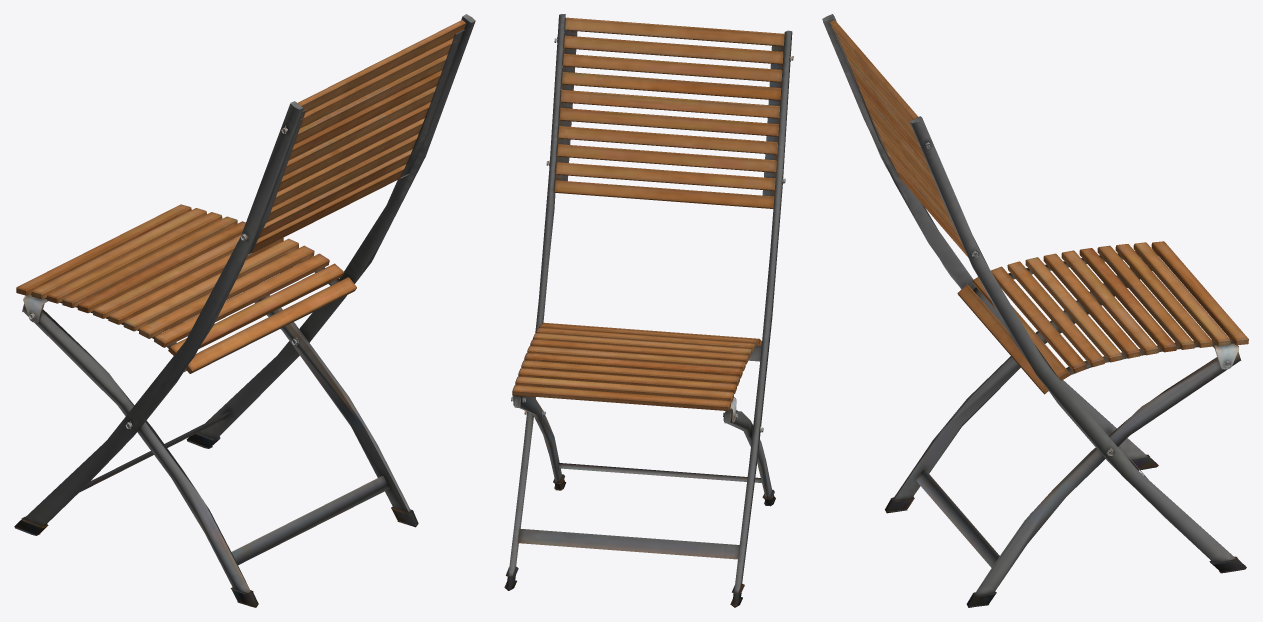
File: bistro_chair.glb
The picture shows the model from 3 angles, left to right: view 1: azimuth 30°, elevation 25°; view 2: azimuth 150°, elevation 25°; view 3: azimuth 270°, elevation 25°; orthographic projection. The views are drawn at different scales.
Visible parts, largest first — view 1: outdoor_table_chair_set_01_chair_01; view 2: outdoor_table_chair_set_01_chair_01; view 3: outdoor_table_chair_set_01_chair_01.
Boxes of the visible parts, x1=… form: outdoor_table_chair_set_01_chair_01: x1=14, y1=14, x2=475, y2=607; outdoor_table_chair_set_01_chair_01: x1=504, y1=14, x2=793, y2=607; outdoor_table_chair_set_01_chair_01: x1=822, y1=14, x2=1248, y2=607.
Size of the model in its own units: 0.5745 by 0.8586 by 0.6614.
1 material, 1 textured.
